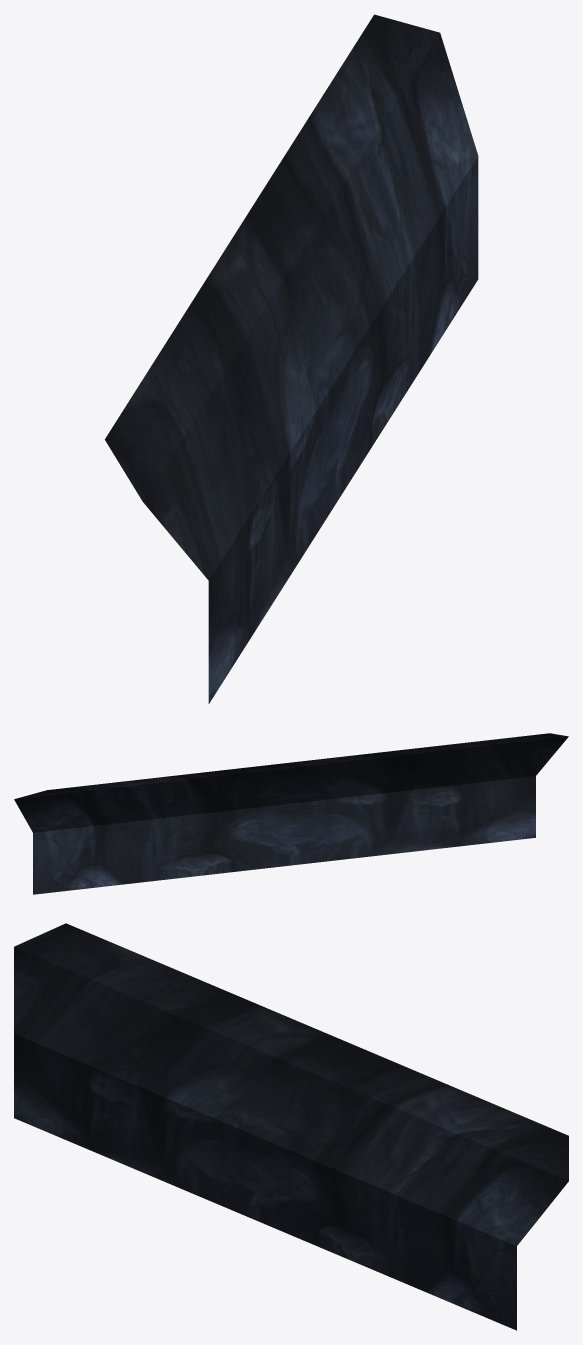
The model's file is mine_cap_diagonal_01.fbx.
The picture shows the model from 3 angles, top to bottom: view 1: azimuth 30°, elevation 25°; view 2: azimuth 150°, elevation 25°; view 3: azimuth 270°, elevation 25°; orthographic projection. The views are drawn at different scales.
Parts seen in each view (by area): view 1: obj0.055; view 2: obj0.055; view 3: obj0.055.
Boxes of the visible parts, bbox=[...] form: obj0.055: bbox=[105, 14, 478, 703]; obj0.055: bbox=[14, 733, 568, 894]; obj0.055: bbox=[14, 923, 568, 1330].
Size of the model in its own units: 4 by 1.38 by 4.
